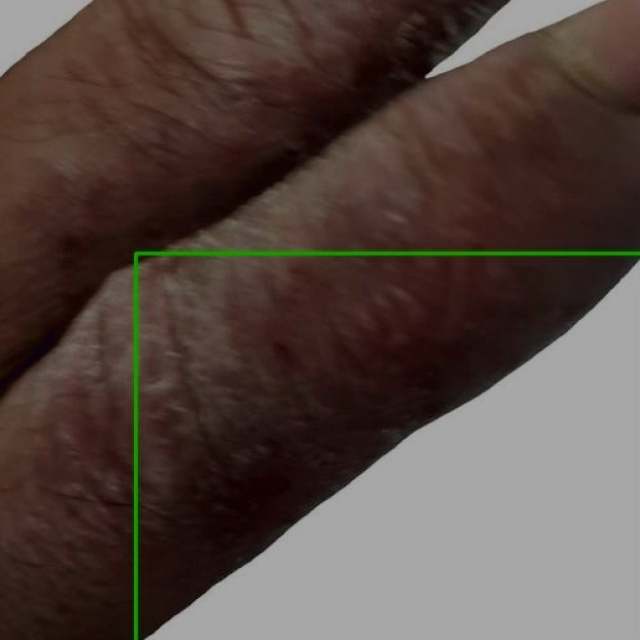Contact Dermatitis: (135, 253, 639, 639)
